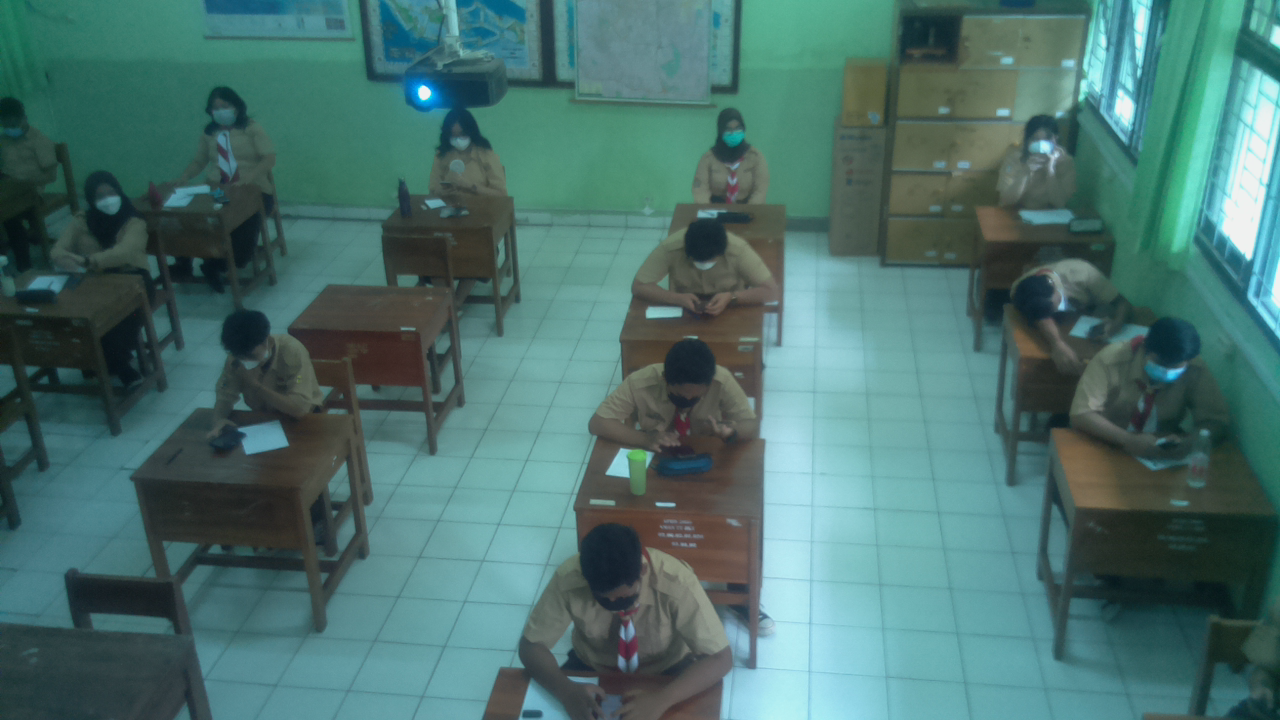Student: (553, 519, 709, 670), (1105, 313, 1214, 433), (621, 343, 742, 433), (207, 307, 312, 407), (652, 218, 759, 302), (1015, 251, 1129, 321), (425, 105, 506, 193), (195, 85, 266, 184), (999, 115, 1074, 206), (0, 97, 64, 193), (79, 175, 137, 262), (701, 115, 758, 198)
